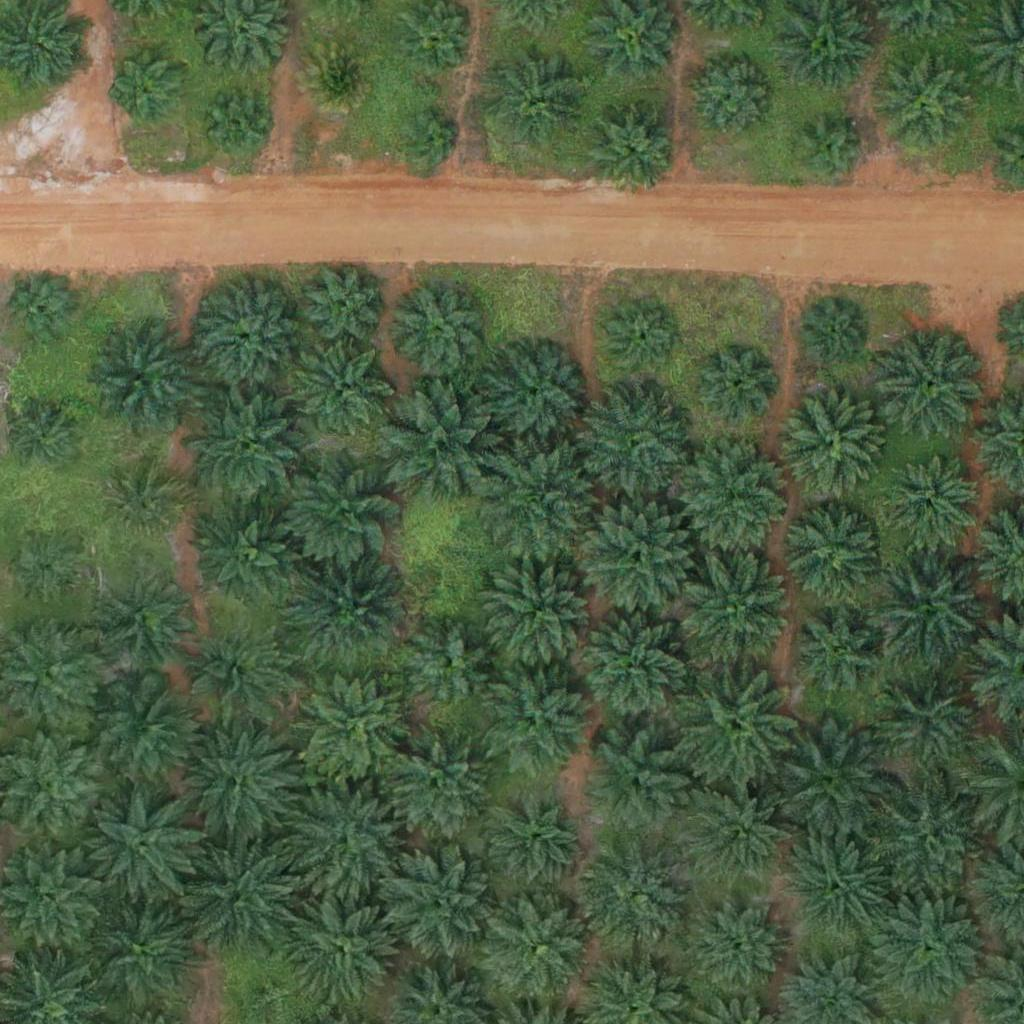Kelapa_Sawit: (77, 318, 202, 444), (79, 784, 204, 910), (184, 379, 309, 505), (279, 449, 404, 575), (376, 382, 501, 508), (479, 441, 604, 567), (573, 606, 698, 732), (674, 548, 799, 674), (673, 663, 798, 789), (769, 719, 894, 845), (865, 539, 990, 665), (864, 658, 989, 784), (864, 774, 989, 900), (866, 885, 991, 1011), (485, 559, 598, 673), (577, 844, 690, 958), (87, 675, 200, 788), (183, 729, 296, 842), (483, 664, 596, 777), (476, 782, 589, 895), (577, 730, 690, 843), (677, 441, 790, 554), (285, 889, 398, 1002), (179, 841, 292, 954), (580, 497, 692, 611), (685, 776, 797, 890), (193, 501, 305, 614), (180, 617, 292, 730), (292, 554, 404, 667), (297, 673, 409, 786), (290, 783, 402, 896), (378, 728, 490, 841), (575, 382, 687, 495), (482, 893, 594, 1006), (382, 844, 494, 957), (84, 894, 196, 1007), (875, 53, 975, 154), (194, 282, 294, 383), (782, 391, 882, 492), (781, 506, 881, 607), (884, 332, 984, 433), (878, 453, 978, 554), (582, 97, 682, 197), (488, 47, 588, 147), (293, 339, 393, 439), (483, 345, 583, 445), (788, 602, 888, 702), (787, 833, 887, 933), (685, 900, 785, 1000), (687, 53, 775, 141), (407, 620, 495, 708), (102, 573, 189, 661), (299, 260, 386, 348), (393, 286, 480, 374), (604, 303, 679, 379), (793, 112, 868, 188), (302, 38, 377, 114), (200, 87, 275, 163), (108, 466, 183, 541), (701, 347, 776, 422), (110, 46, 185, 121), (2, 272, 77, 347), (5, 402, 80, 477), (11, 532, 86, 607), (802, 301, 865, 364), (400, 110, 462, 173)
